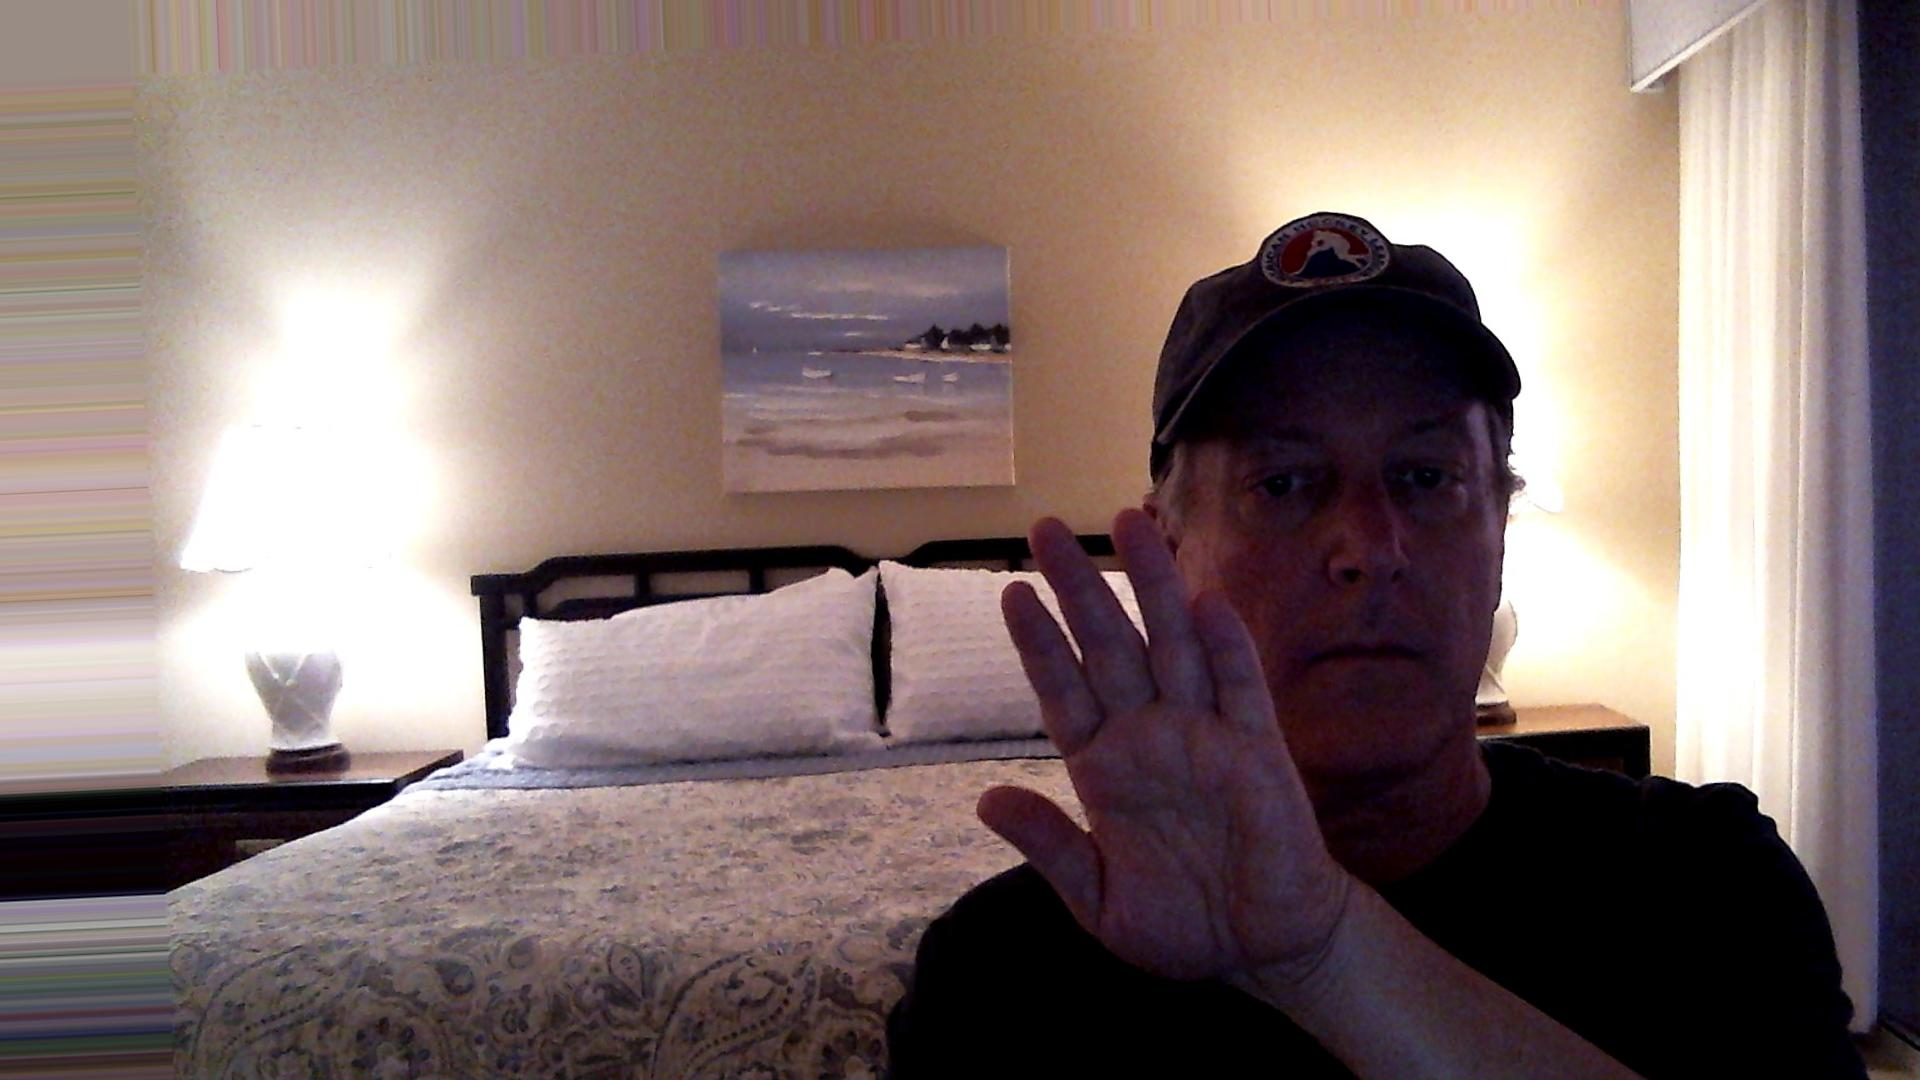Hello: (963, 495, 1379, 1015)
